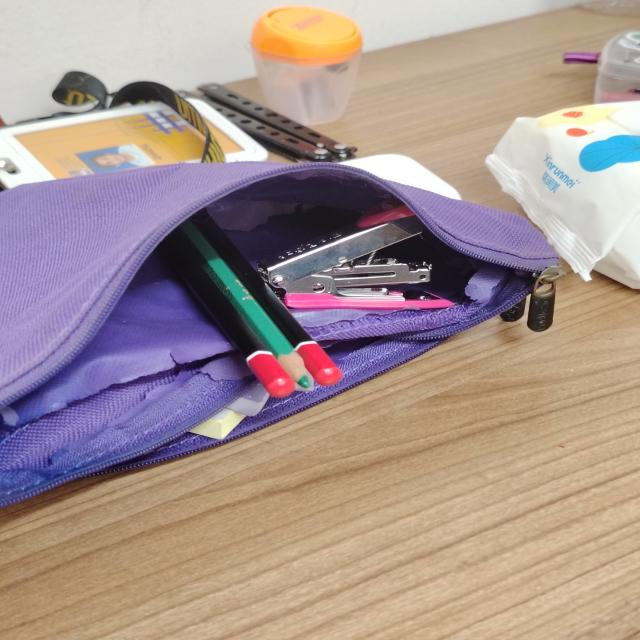pencil: (192, 209, 342, 386), (160, 230, 295, 397), (178, 222, 311, 388)
sharpener: (251, 5, 362, 125)
stapler: (257, 205, 453, 310)
